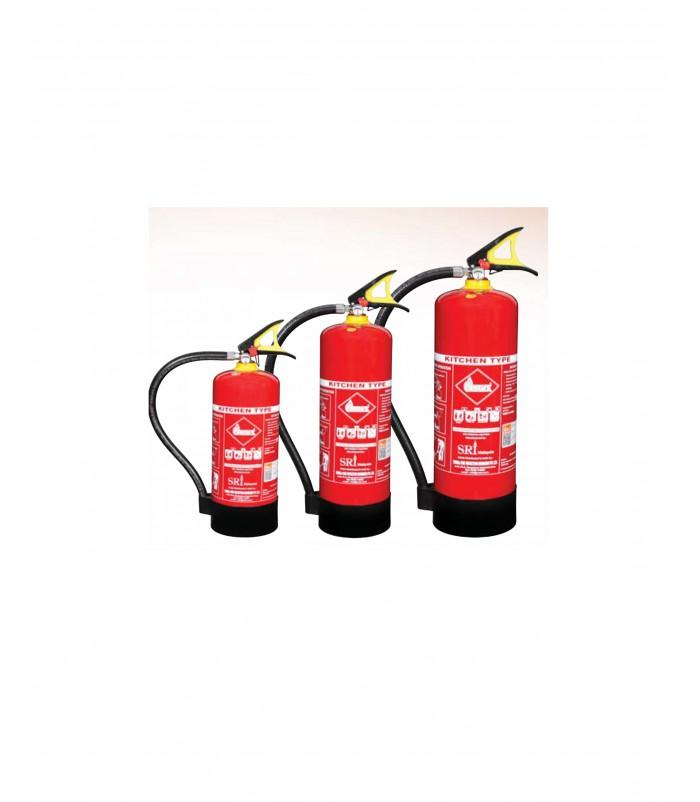Fire Extinguisher: (416, 210, 548, 544), (146, 310, 290, 546), (300, 258, 406, 554)
